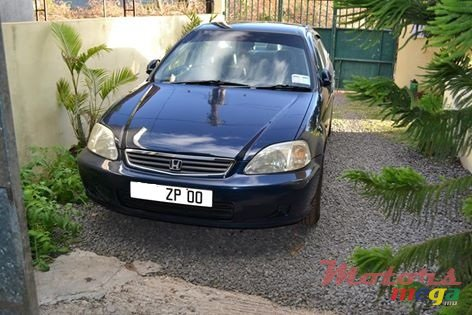car: (76, 17, 339, 229)
